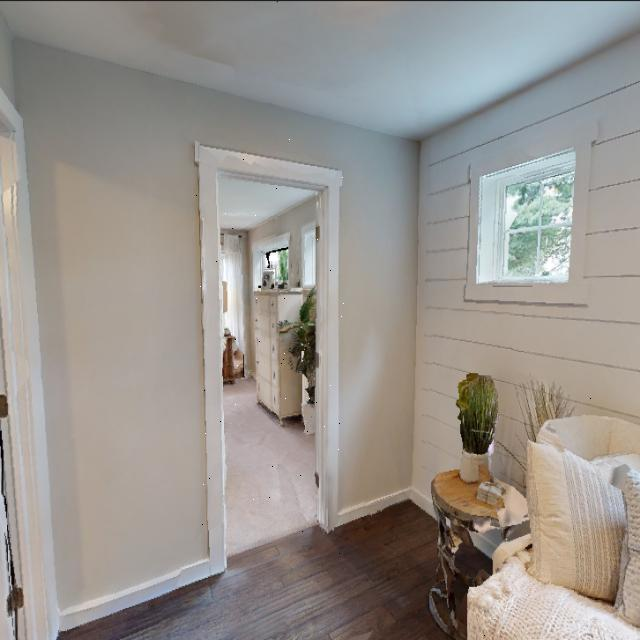door-frame: (196, 135, 346, 566)
sofa: (463, 371, 640, 640)
